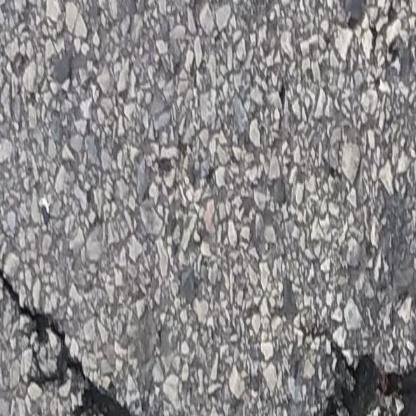Cracks: (0, 248, 164, 416), (295, 356, 416, 416)
